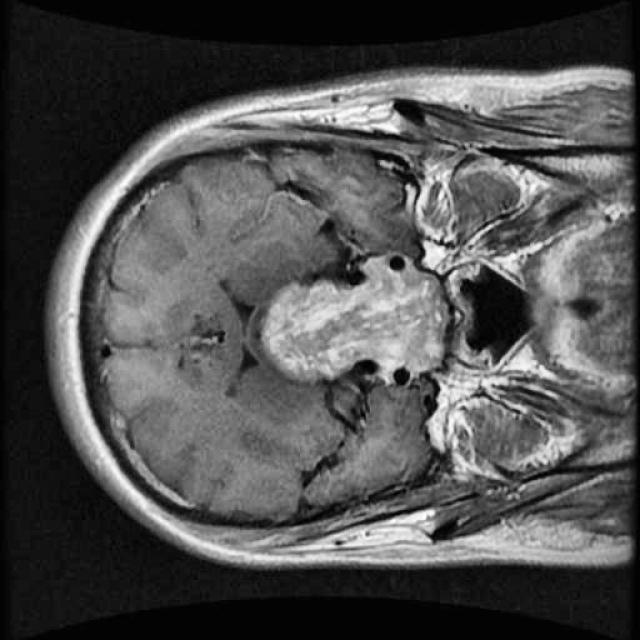Tumor: (251, 262, 454, 398)
